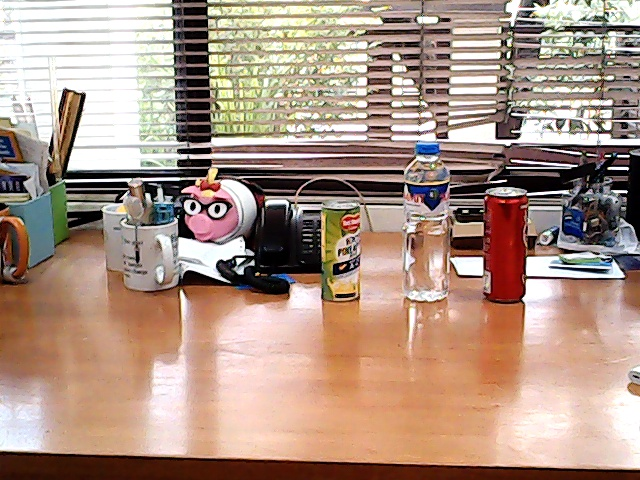Cola: (476, 179, 541, 306)
Pine Juice: (314, 195, 371, 306)
Summit Water: (397, 133, 458, 306)
